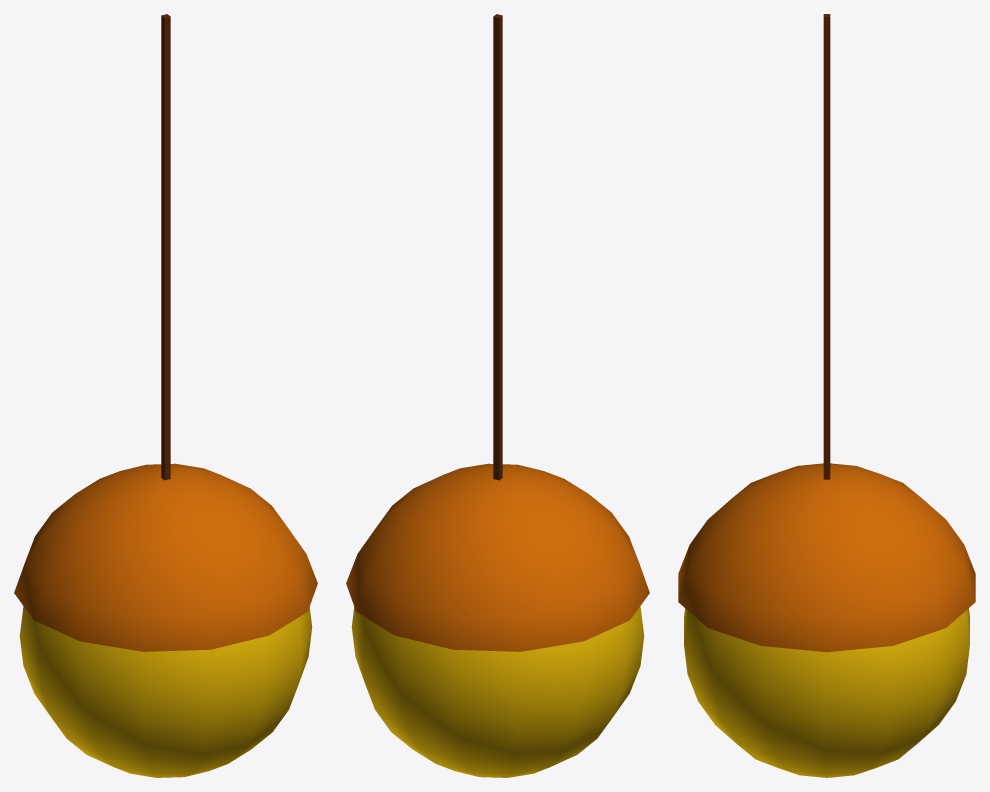
Rendered from Lamp.fbx.
3 views of the same model, side by side, from view 1: azimuth 30°, elevation 25°; view 2: azimuth 150°, elevation 25°; view 3: azimuth 270°, elevation 25° (orthographic).
Visible parts, largest first — view 1: pSphere3; view 2: pSphere3; view 3: pSphere3.
Part boxes in pixels (x1,y1,x2,y2): pSphere3: [14, 14, 317, 777]; pSphere3: [346, 14, 649, 777]; pSphere3: [678, 14, 975, 777].
Size of the model in its own units: 2.08 by 5.63 by 2.03.
Materials: 1 (1 with a texture image).
